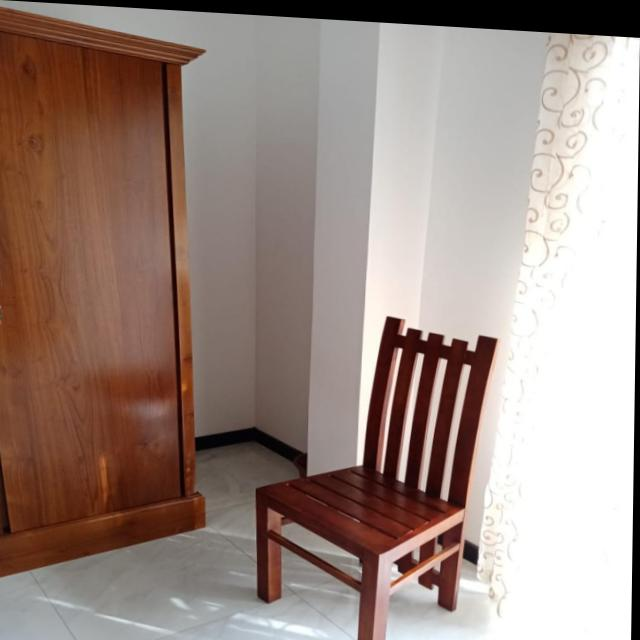Chair: (254, 302, 506, 640)
